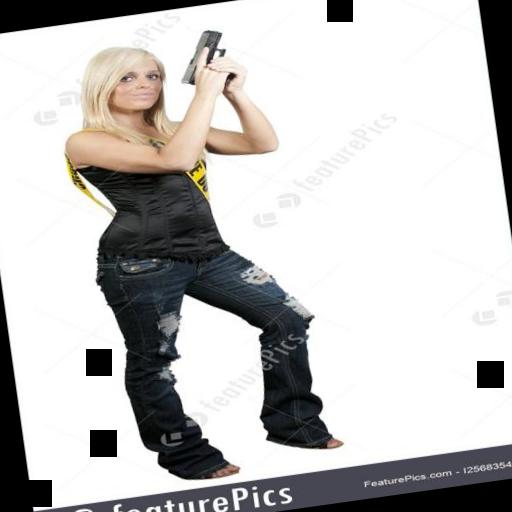Handgun: (172, 26, 232, 91)
